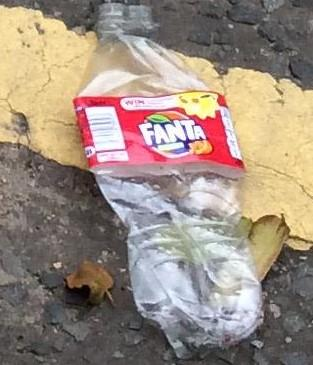Plastic: (64, 0, 274, 352)
